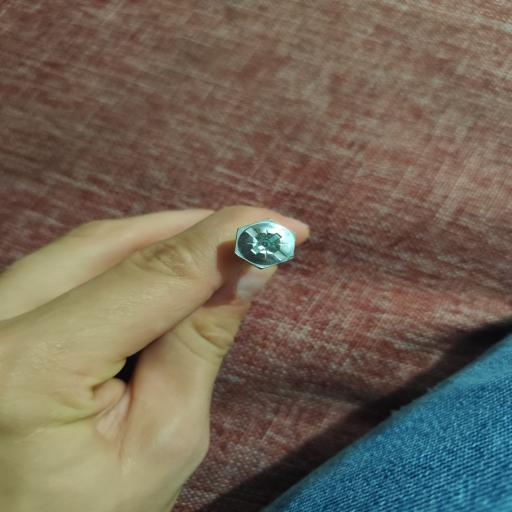Pozidriv: (228, 209, 298, 280)
